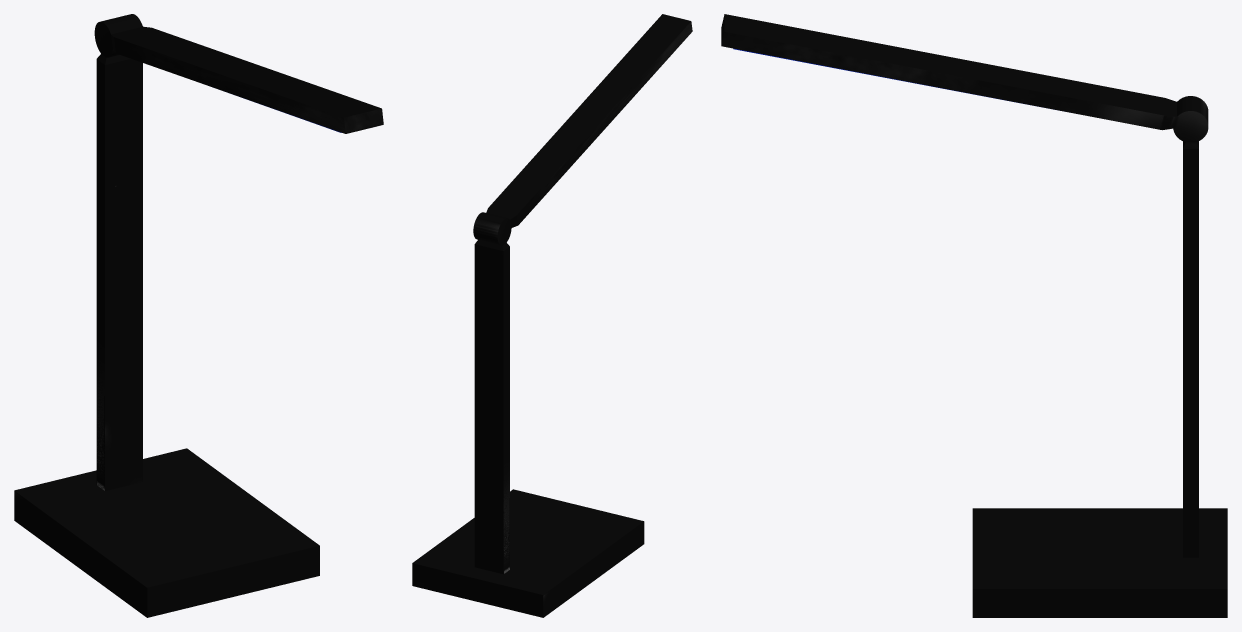
Rendered from lampe2.gltf.
The picture shows the model from 3 angles, left to right: view 1: azimuth 30°, elevation 25°; view 2: azimuth 150°, elevation 25°; view 3: azimuth 270°, elevation 25°; orthographic projection. The views are drawn at different scales.
Parts seen in each view (by area): view 1: Lamp.001; view 2: Lamp.001; view 3: Lamp.001.
Boxes of the visible parts, x1,y1,x2,y2 form: Lamp.001: (14, 14, 383, 617); Lamp.001: (412, 14, 692, 617); Lamp.001: (721, 14, 1227, 617).
Bounding box in the file's own units: 0.12 × 0.3838 × 0.3177.
Materials: 2 (1 with a texture image).
